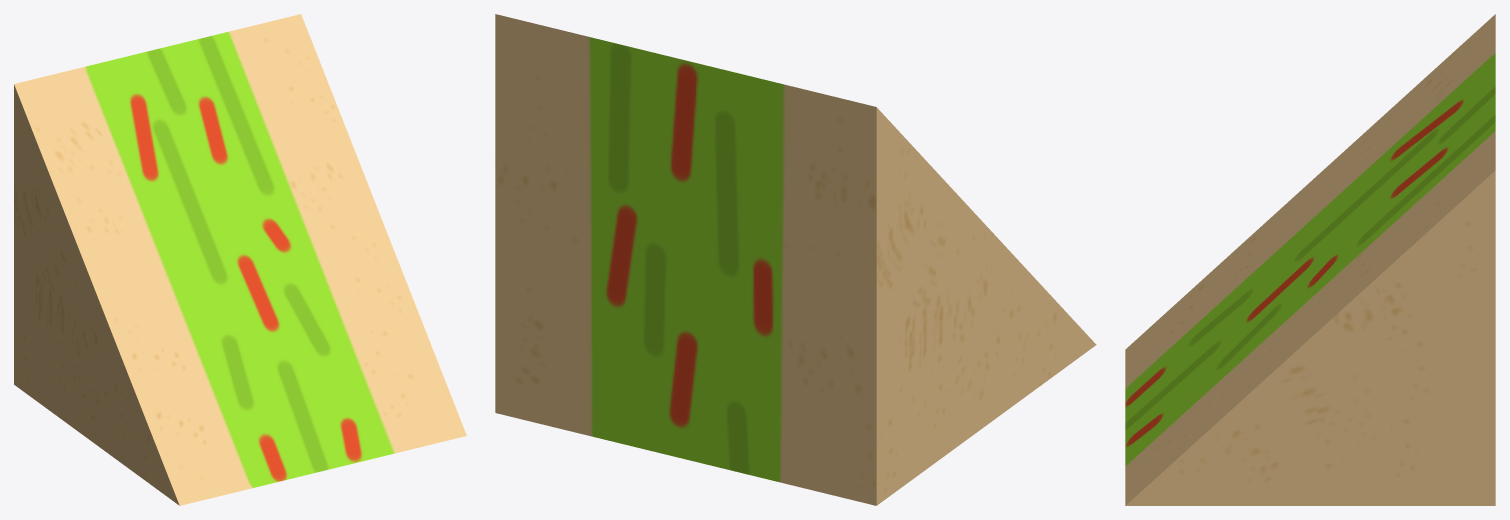
File: sandwich.fbx
3 renders of one model, left to right at view 1: azimuth 30°, elevation 25°; view 2: azimuth 150°, elevation 25°; view 3: azimuth 270°, elevation 25°, orthographic. The views are drawn at different scales.
Parts seen in each view (by area): view 1: sandwich; view 2: sandwich; view 3: sandwich.
Part boxes in pixels (bbox=[...]): sandwich: bbox=[14, 14, 466, 505]; sandwich: bbox=[495, 14, 1096, 505]; sandwich: bbox=[1125, 14, 1495, 505].
Bounding box in the file's own units: 0.5 × 0.5001 × 0.5.
